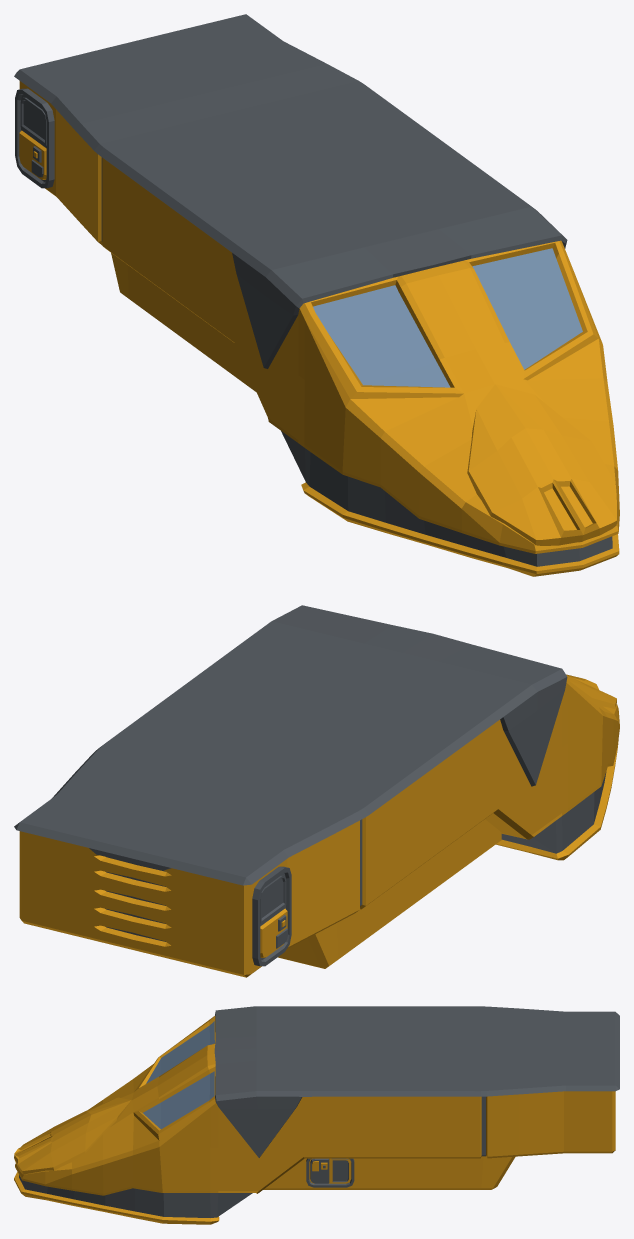
File: Fighter_04_Body_Yellow.fbx
3 views of the same model, one above another, from view 1: azimuth 30°, elevation 25°; view 2: azimuth 150°, elevation 25°; view 3: azimuth 270°, elevation 25° (orthographic). The views are drawn at different scales.
Parts seen in each view (by area): view 1: Fighter_04_Body_Yellow; view 2: Fighter_04_Body_Yellow; view 3: Fighter_04_Body_Yellow.
Boxes of the visible parts, x1,y1,x2,y2 form: Fighter_04_Body_Yellow: (14, 14, 619, 576); Fighter_04_Body_Yellow: (14, 605, 619, 977); Fighter_04_Body_Yellow: (14, 1006, 619, 1224).
Bounding box in the file's own units: 538 × 381 × 1554.
Materials: 3 (3 with a texture image).
